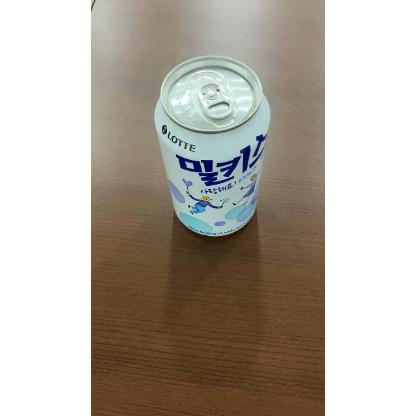Can: (153, 55, 271, 240)
